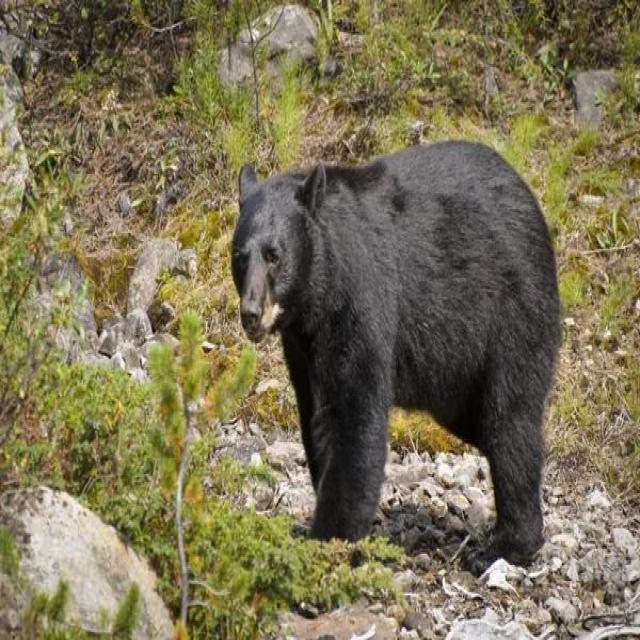Bear: (230, 142, 562, 570)
